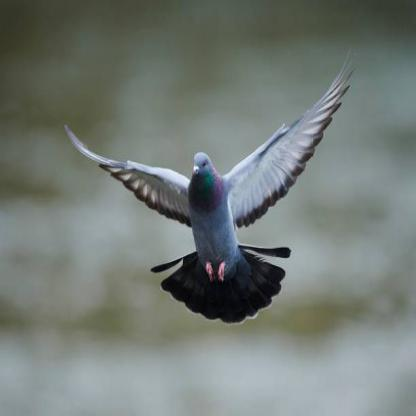Flying Rat: (64, 60, 356, 329)
